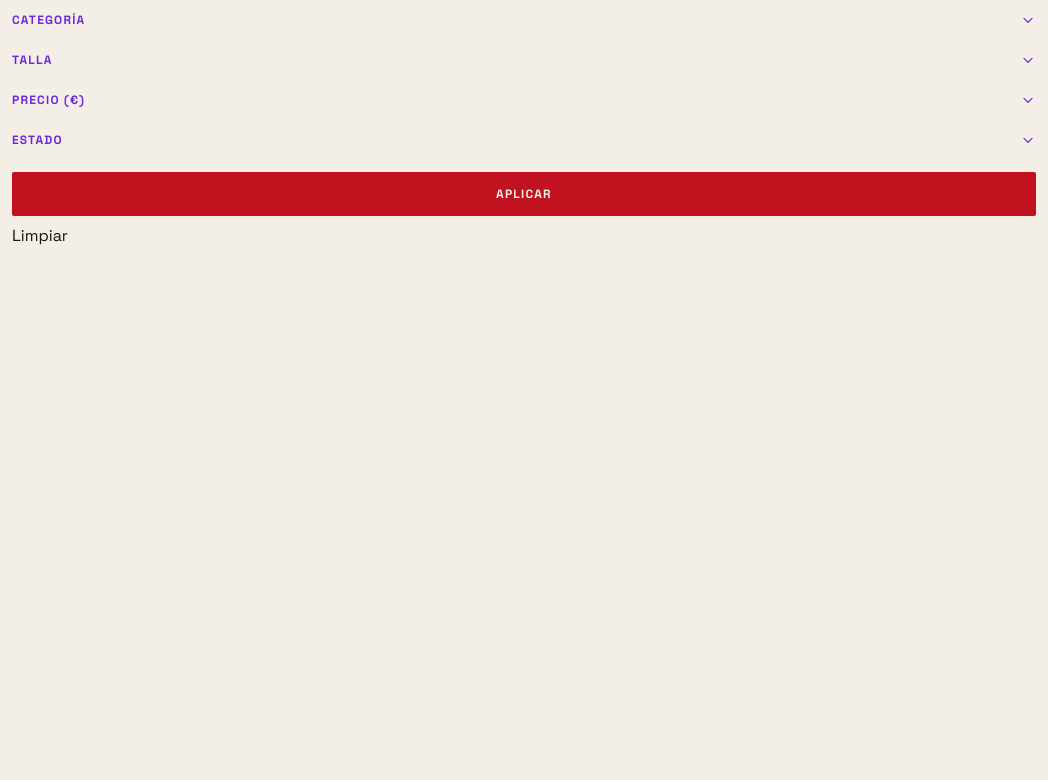
Test case: FilterForm accordion › Limpiar points to /productos and closes every group
The image size is (1048, 780).
Click the button "Categoría": (49, 20) [12,12,1036,28]
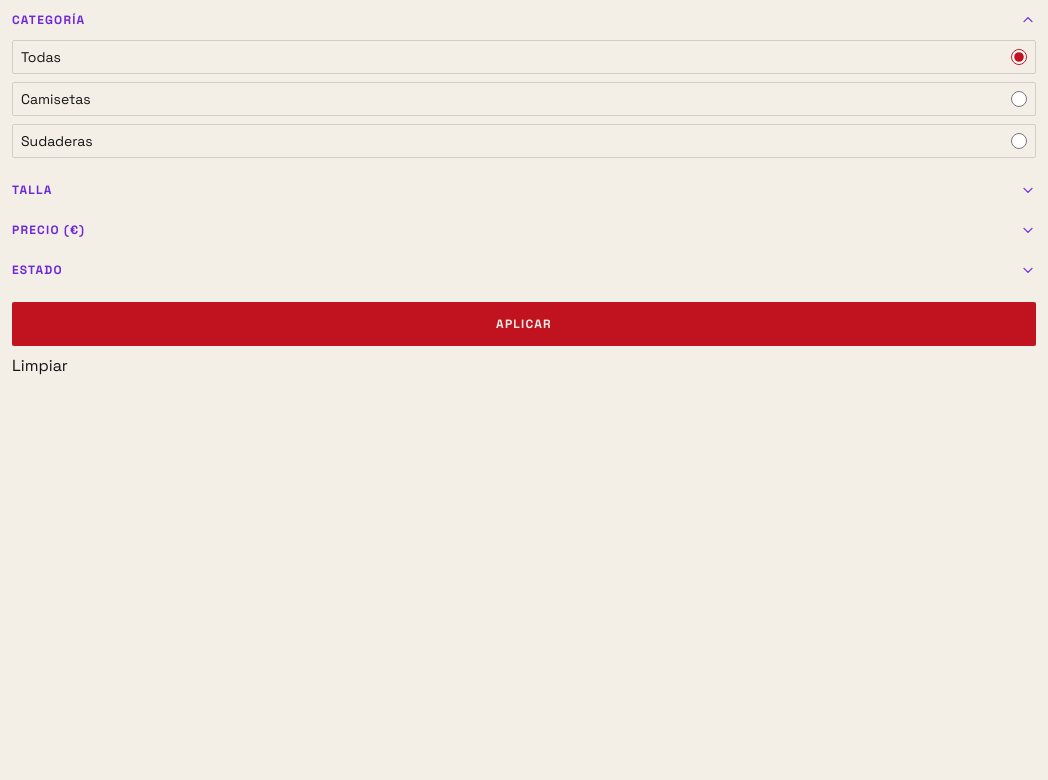
Click the button "Talla": (32, 190) [12,182,1036,198]
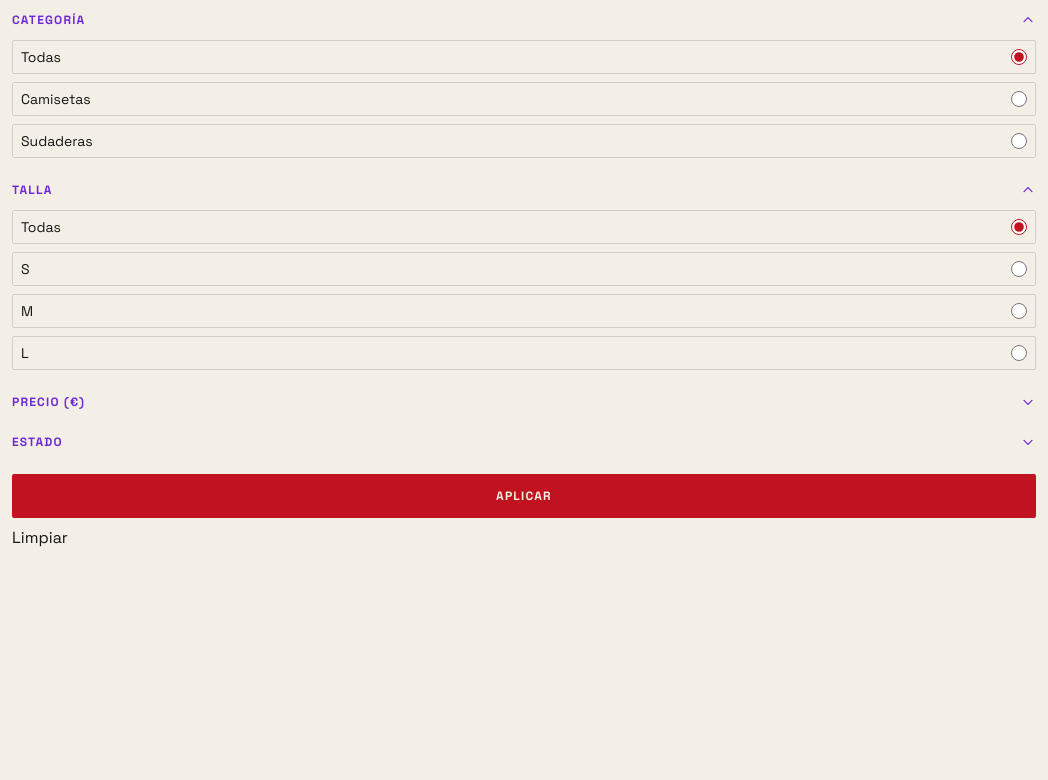
Click the link "Limpiar": (40, 538) [12,527,68,548]
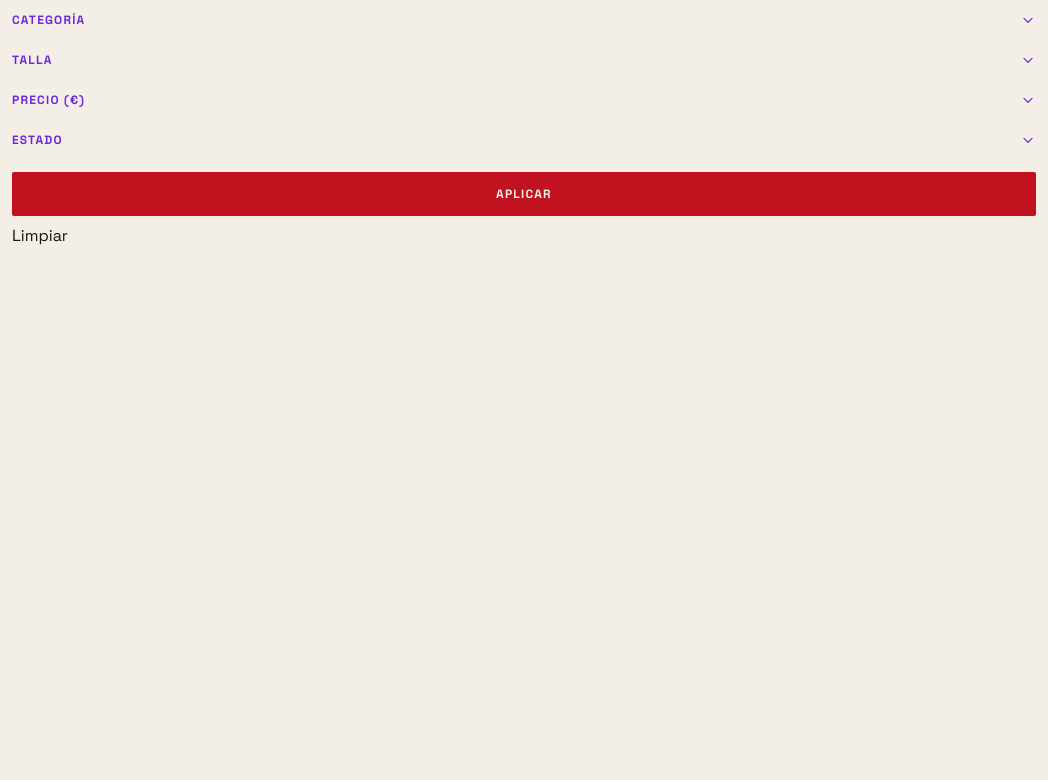
Result: the button "Categoría" is collapsed at [12,12,1036,28]
Result: the button "Talla" is collapsed at [12,52,1036,68]
